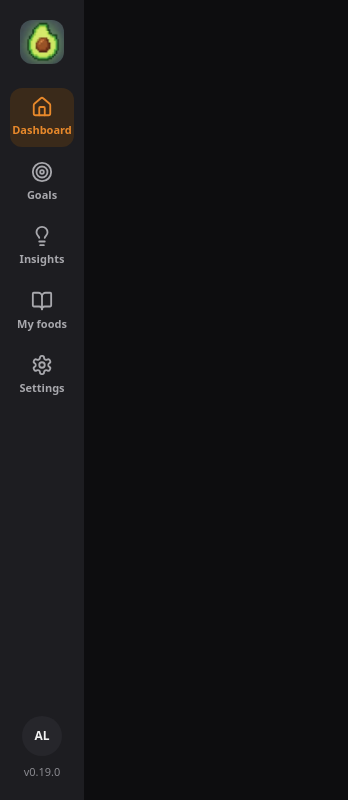
Test: the rail's bottom (W2) › Escape closes the menu and gives focus back to the avatar
Click the button with aria-label "Account menu": {"x": 42, "y": 736} [22,716,62,756]
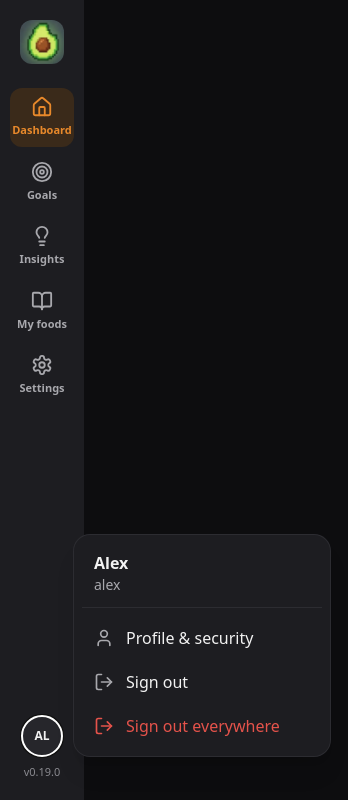
Press Escape
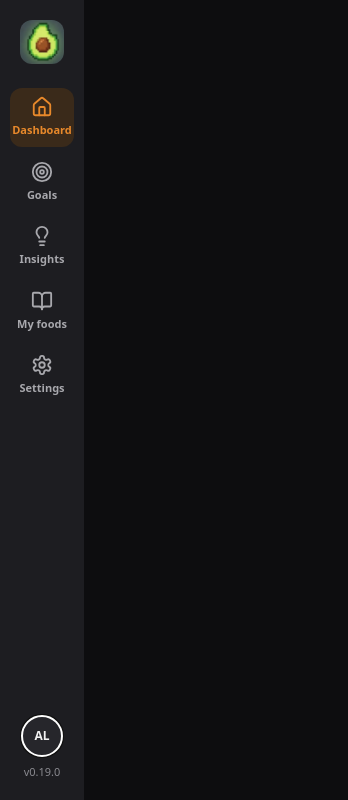
Expected: the element "Account" is gone
